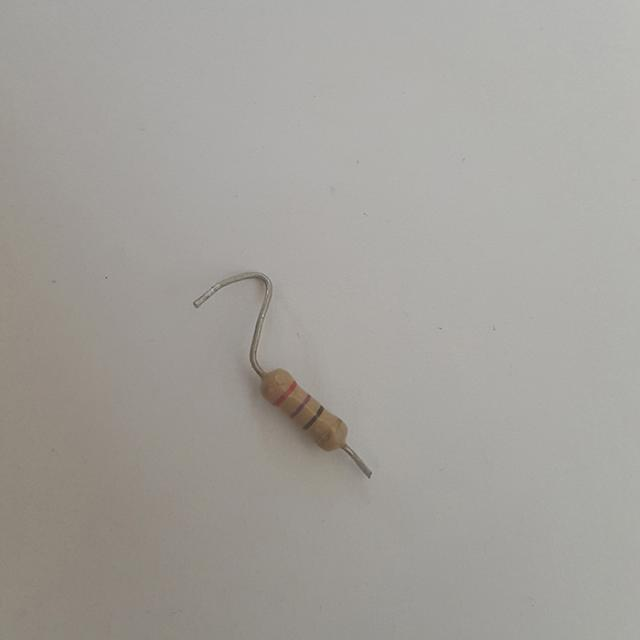black: (303, 406, 324, 430)
gold: (320, 418, 341, 447)
red: (274, 381, 296, 405)
resistor: (254, 362, 358, 462)
violet: (290, 395, 311, 417)
